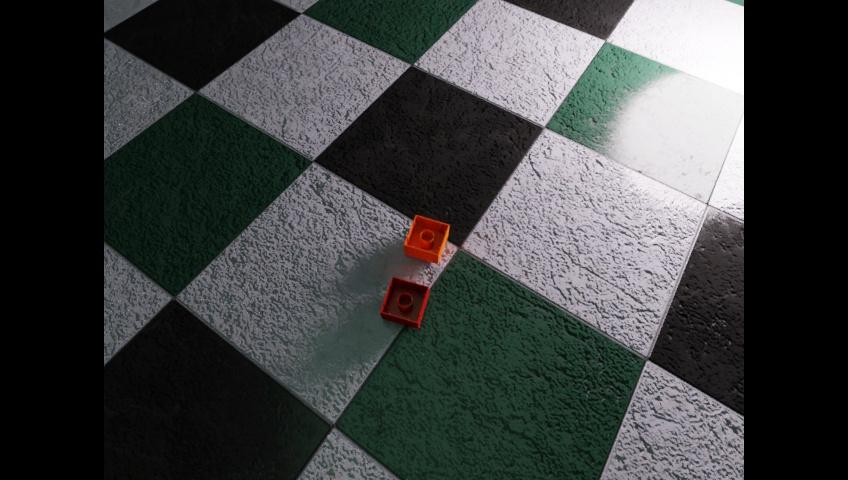2x2_orange: (404, 214, 448, 263)
2x2_red: (379, 276, 428, 328)
